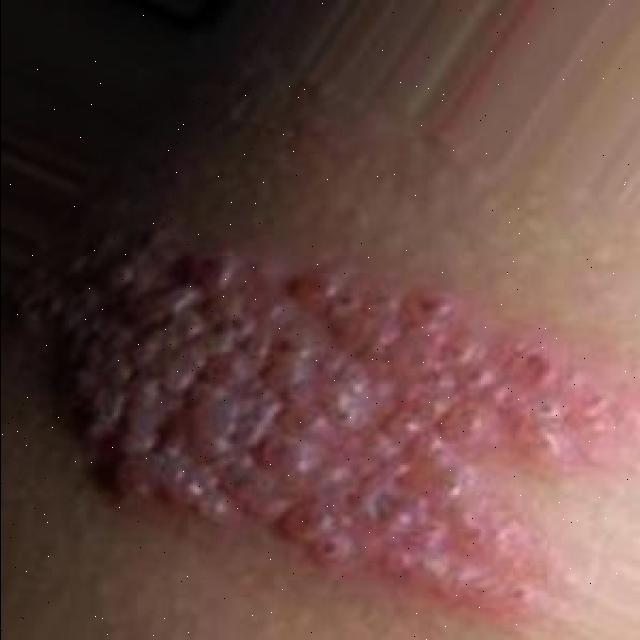Shingles: (38, 232, 610, 617)
